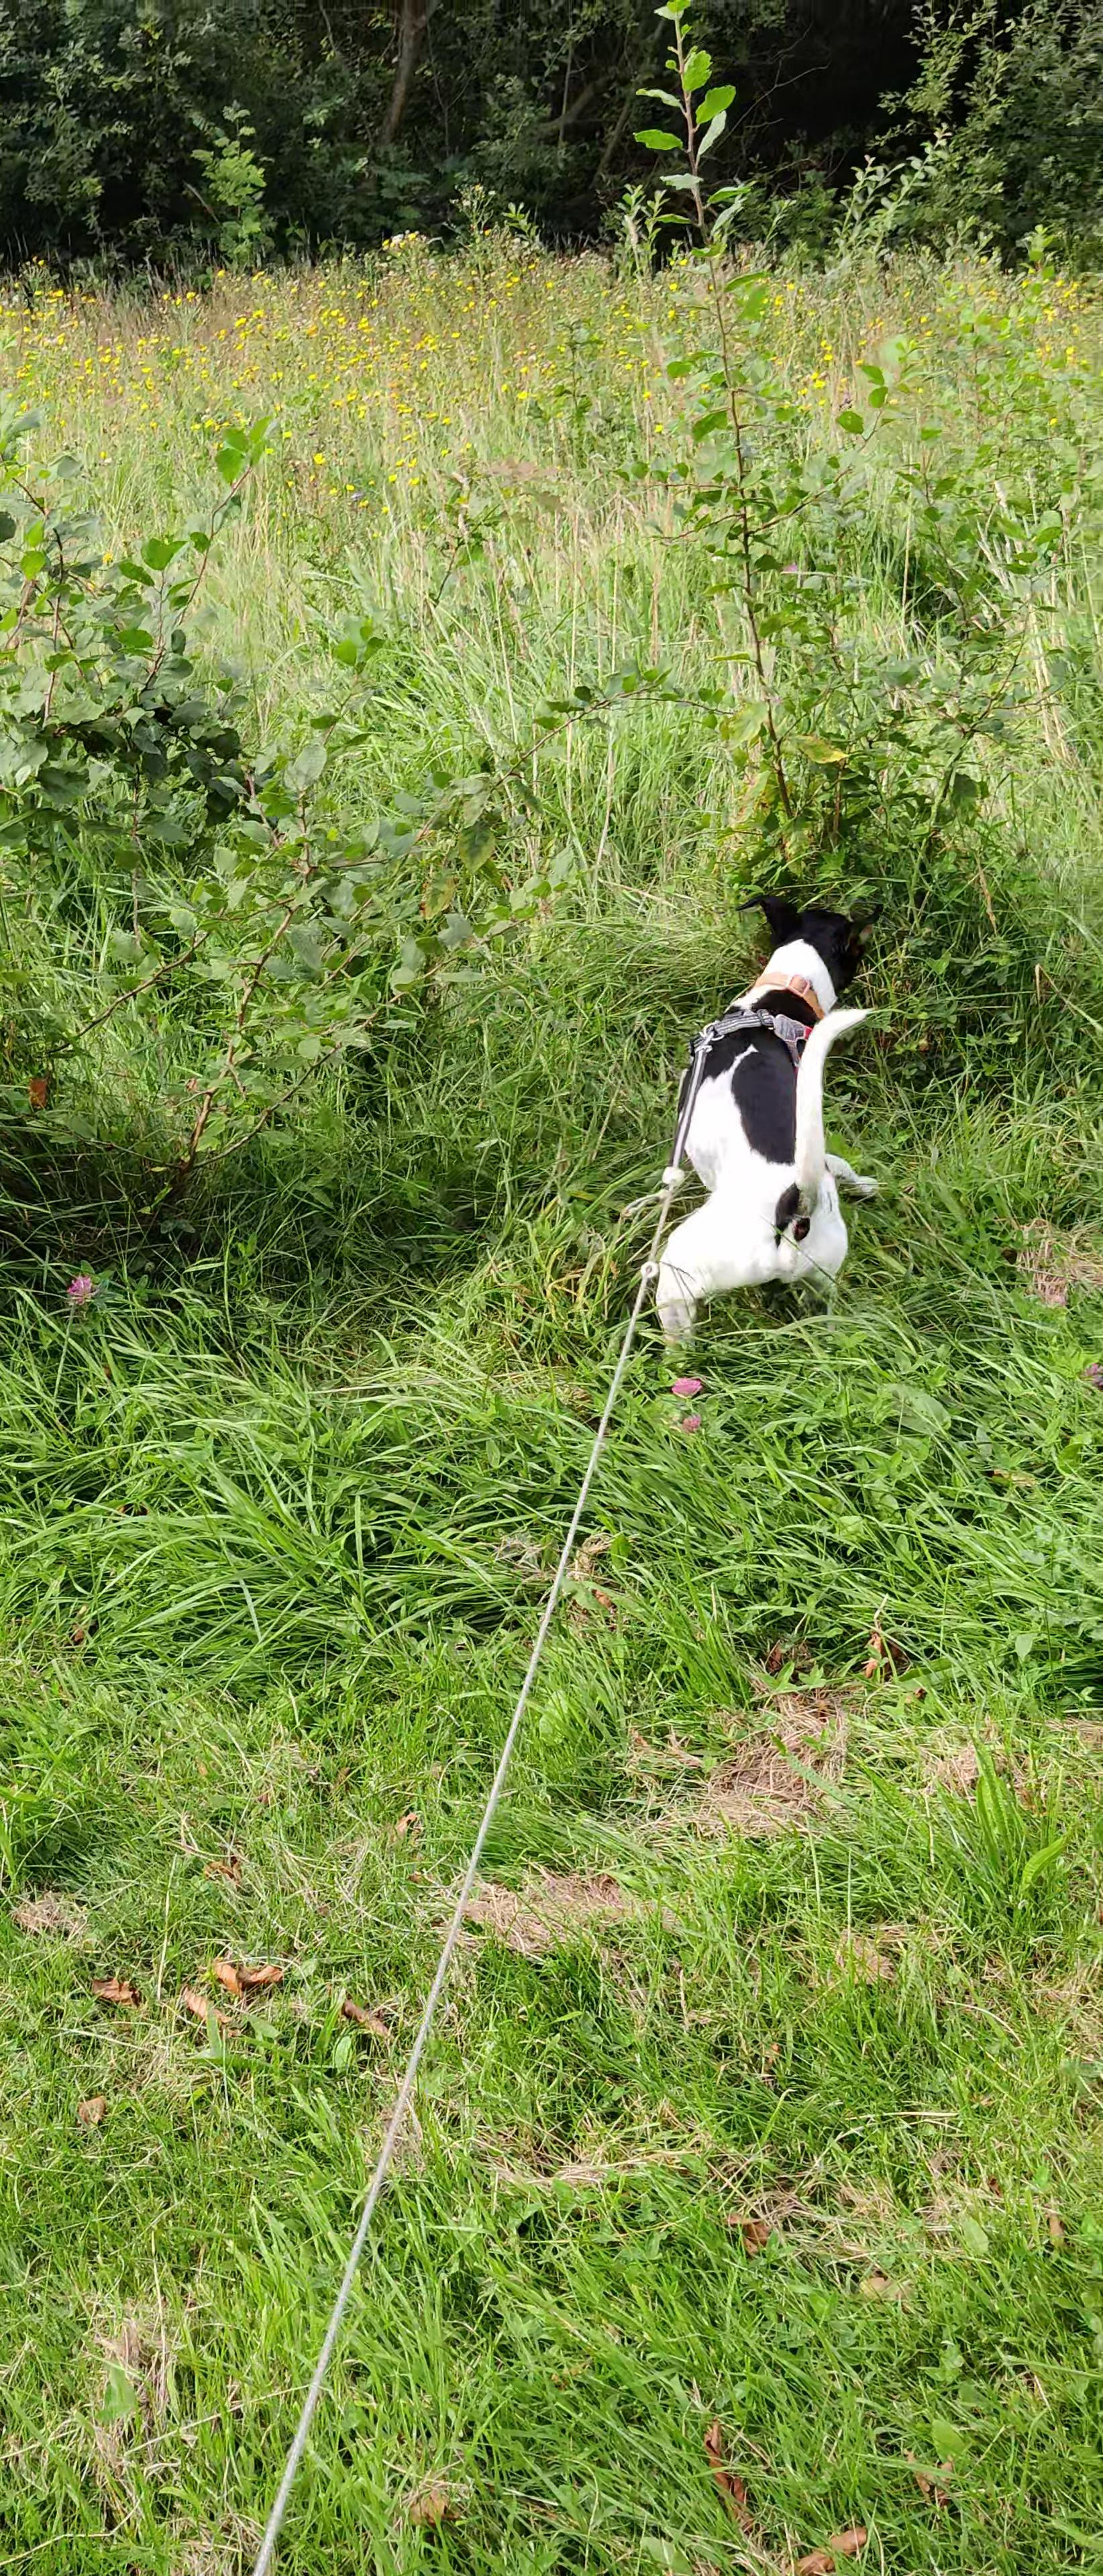Dog: (648, 882, 894, 1362)
